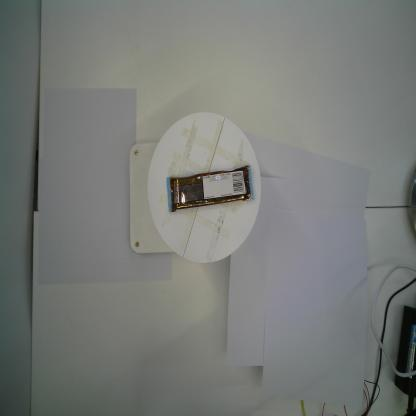Chocolate: (166, 165, 255, 213)
